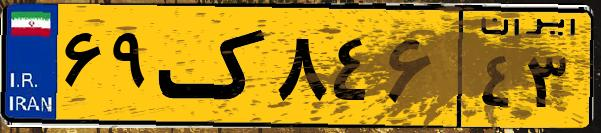3: (525, 38, 570, 115)
4: (330, 28, 385, 110), (475, 38, 525, 113)
6: (385, 28, 445, 110), (57, 26, 110, 100)
8: (270, 28, 330, 110)
9: (110, 28, 158, 98)
ک: (158, 12, 270, 120)
